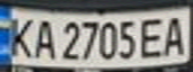0: (100, 18, 121, 61)
2: (57, 17, 81, 61)
5: (115, 17, 142, 61)
7: (78, 17, 100, 62)
A: (157, 12, 193, 57), (27, 16, 57, 61)
E: (136, 15, 172, 60)
K: (3, 13, 39, 60)
